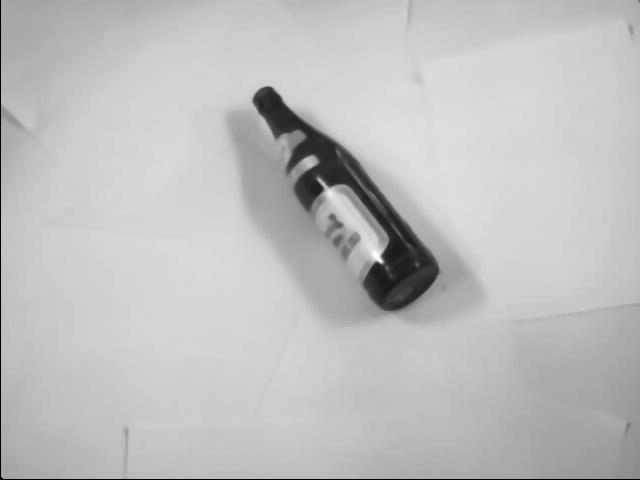Glass: (249, 85, 442, 315)
